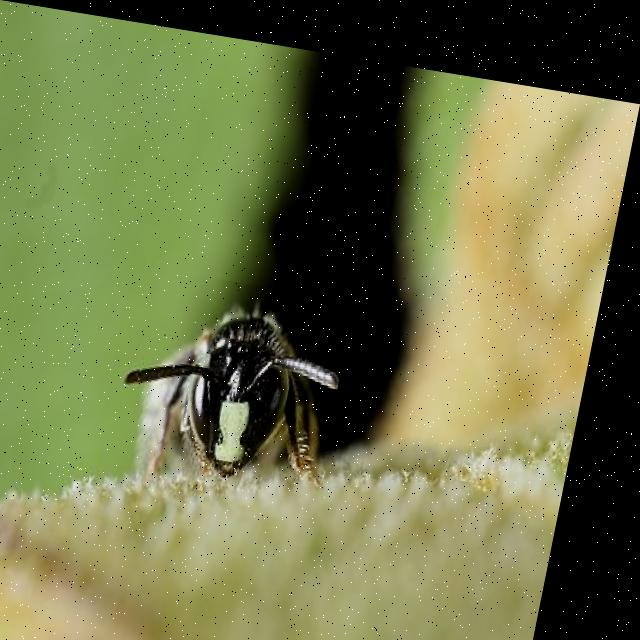Braunsapis: (107, 259, 380, 510)
